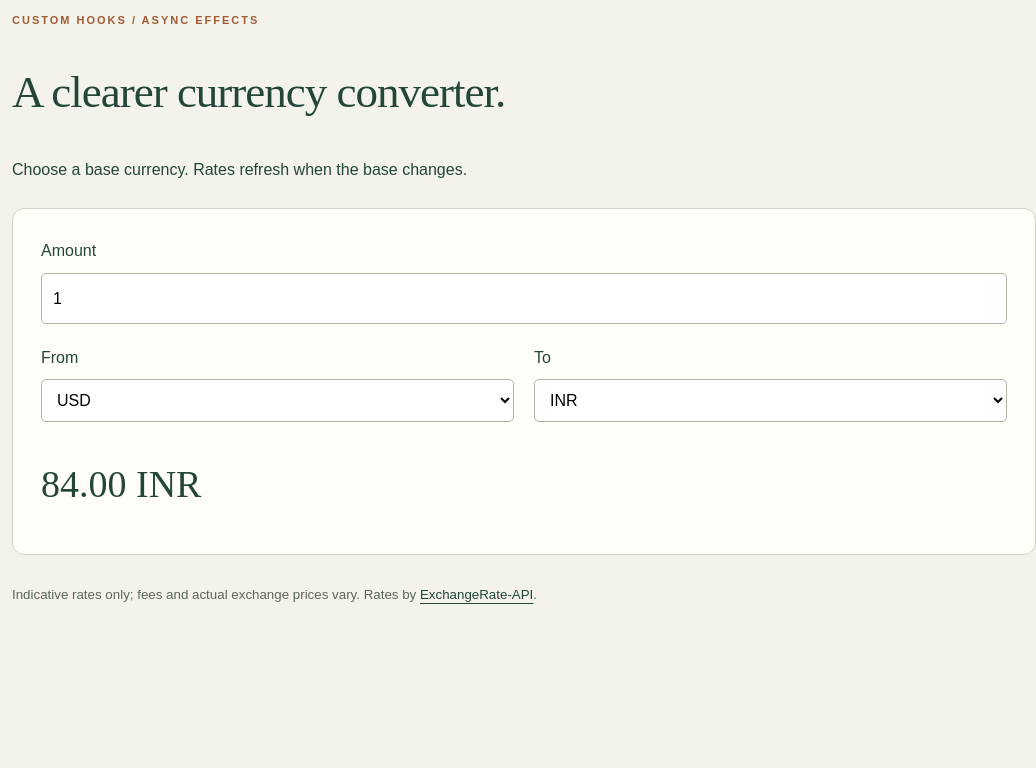
Scenario: converts zero and updates output from the current inputs
expect the text "84.00 INR" is shown: met, box [41,463,202,505]
Replace the text in the number field labelled "Amount" with "0" at [524, 298], box [41,272,1007,324]
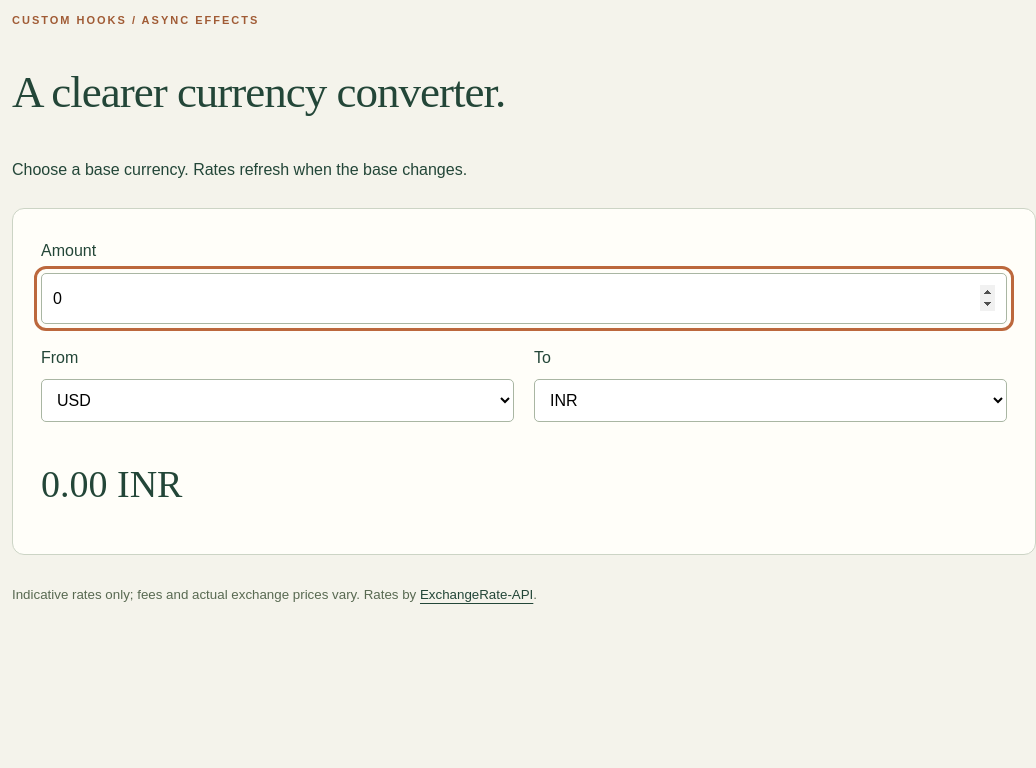
expect the text "0.00 INR" is shown: met, box [41,463,182,505]
